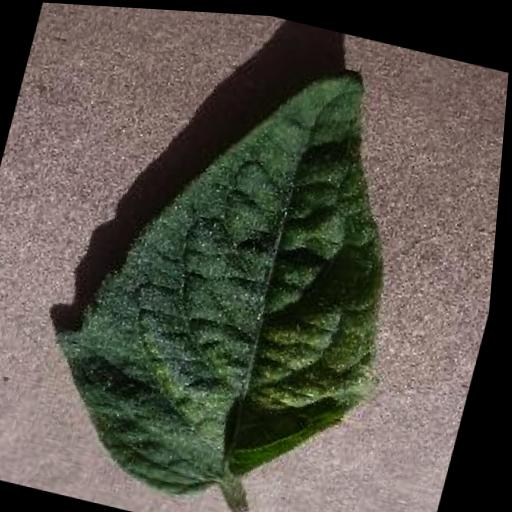Spider Mites: (23, 11, 447, 512)
